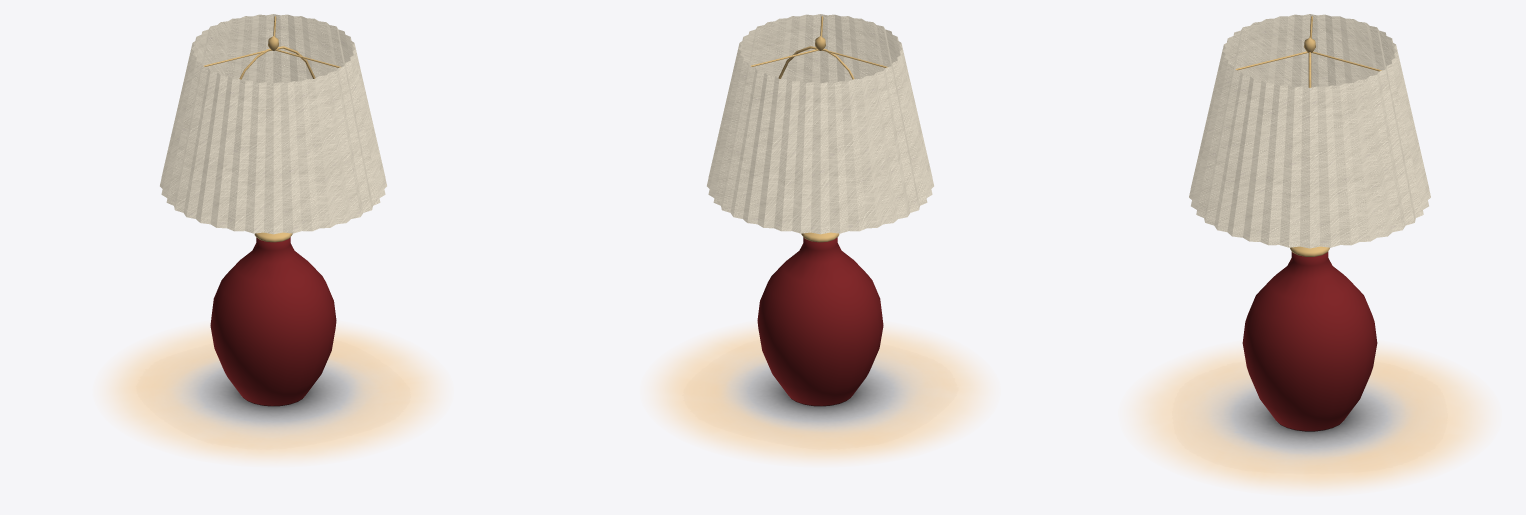
The model's file is table_lamp.glb.
3 renders of one model, left to right at view 1: azimuth 30°, elevation 25°; view 2: azimuth 150°, elevation 25°; view 3: azimuth 270°, elevation 25°, orthographic. The views are drawn at different scales.
Parts seen in each view (by area): view 1: table_lamp_LOD0, table_lamp_Glow, table_lamp_Shadow; view 2: table_lamp_LOD0, table_lamp_Glow, table_lamp_Shadow; view 3: table_lamp_LOD0, table_lamp_Glow, table_lamp_Shadow.
Part boxes in pixels (x1=…): table_lamp_LOD0: x1=160, y1=14, x2=386, y2=405; table_lamp_Glow: x1=104, y1=325, x2=441, y2=461; table_lamp_Shadow: x1=189, y1=364, x2=356, y2=426; table_lamp_LOD0: x1=707, y1=14, x2=933, y2=405; table_lamp_Glow: x1=652, y1=326, x2=987, y2=462; table_lamp_Shadow: x1=737, y1=364, x2=904, y2=426; table_lamp_LOD0: x1=1189, y1=14, x2=1430, y2=431; table_lamp_Glow: x1=1132, y1=345, x2=1488, y2=490; table_lamp_Shadow: x1=1221, y1=387, x2=1398, y2=453.
Size of what is drawn, in the model's own units: 0.6 by 0.622 by 0.6.
6 materials, 3 textured.
